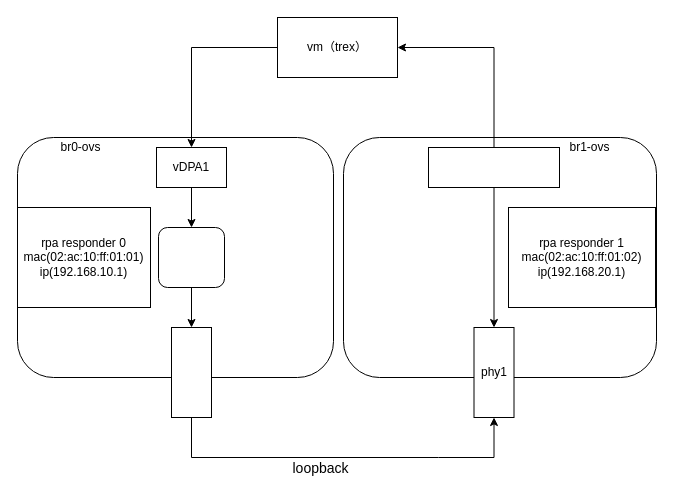
Some shapes in this 674 by 494 pixel diagram are drawn without their labels. The shapes that lost their labels are listed below. From the top down, each one's centre as x and y in pixels, then its label:
(x=494, y=167): vDPA3 mac(de:75:cc:e1:c6:85)
(x=191, y=257): NAT
(x=191, y=372): phy0
